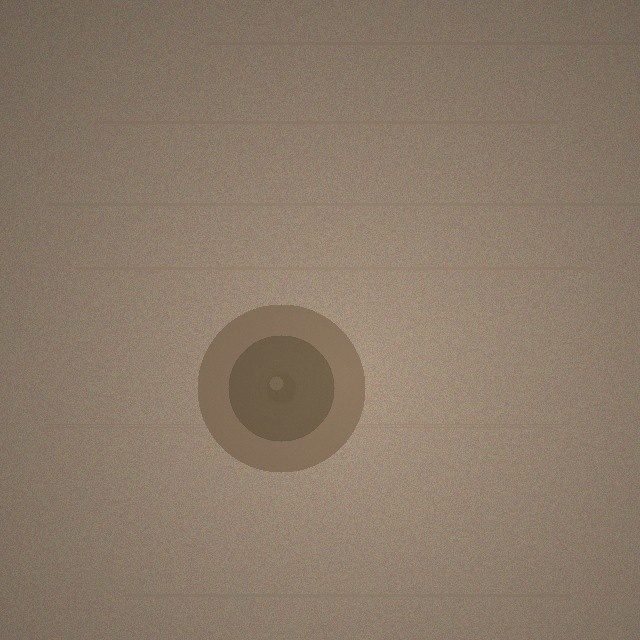good: (197, 304, 365, 472)
